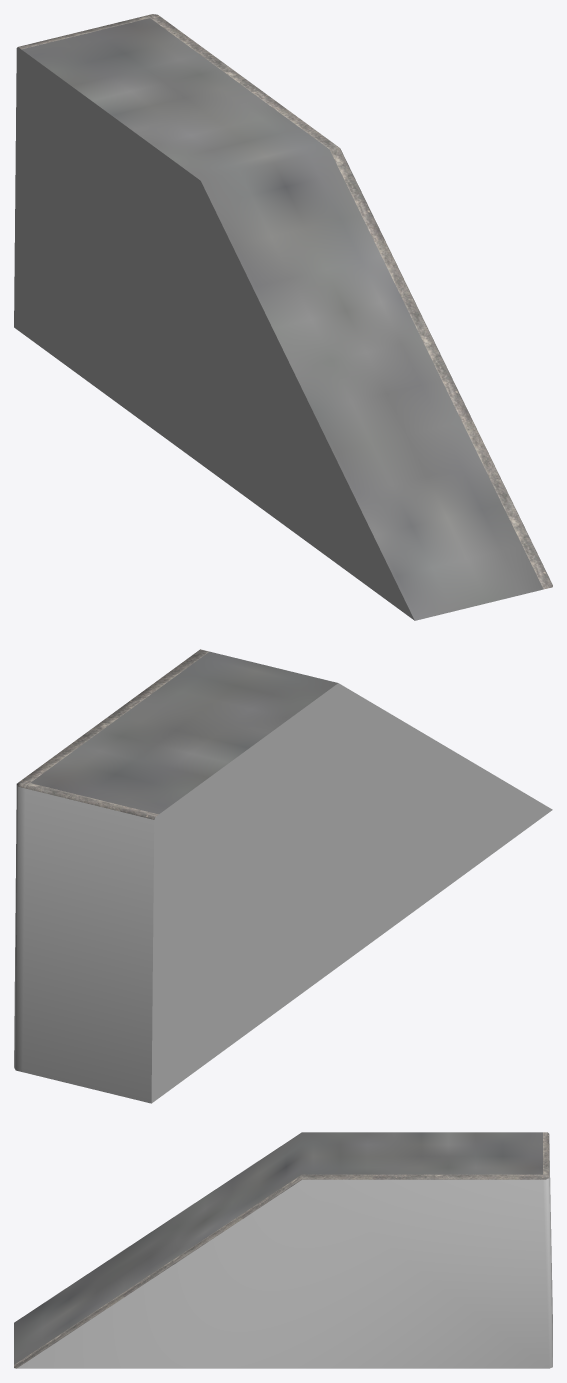
The model's file is JpHouseJ_StoneWall_slope03l.fbx.
The picture shows the model from 3 angles, top to bottom: view 1: azimuth 30°, elevation 25°; view 2: azimuth 150°, elevation 25°; view 3: azimuth 270°, elevation 25°; orthographic projection. The views are drawn at different scales.
Parts seen in each view (by area): view 1: JpHouseJ_StoneWall_slope03l; view 2: JpHouseJ_StoneWall_slope03l; view 3: JpHouseJ_StoneWall_slope03l.
Part boxes in pixels (x1,y1,x2,y2): JpHouseJ_StoneWall_slope03l: (14,14,552,620); JpHouseJ_StoneWall_slope03l: (14,649,552,1103); JpHouseJ_StoneWall_slope03l: (14,1132,552,1368).
Bounding box in the file's own units: 2.11 × 4.08 × 10.46.
